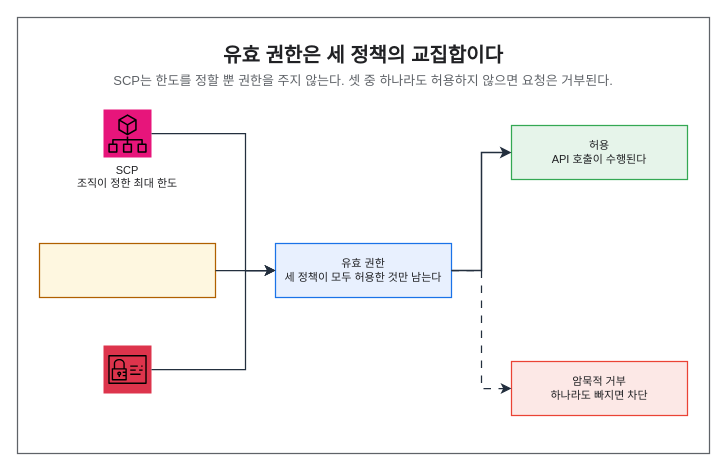
Image size: 728x472. Some labels were removed from this diagram. The shapes that lost their labels are listed below. From the top down, each one's centre as x and y in pixels, then its label:
At pixel 127 270: "Permission boundary principal의 최대 한도".
At pixel 127 369: "Identity policy 실제로 권한을 부여한다".
